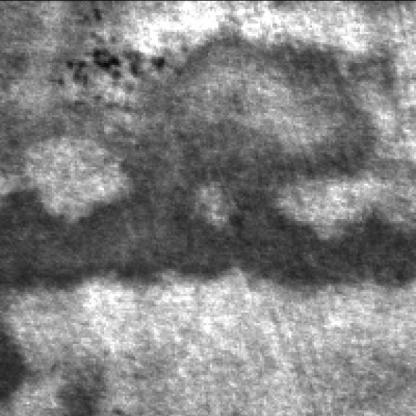inclusion: (50, 36, 158, 112)
patches: (124, 34, 408, 221), (0, 204, 318, 306), (266, 212, 414, 306), (0, 326, 31, 414)
